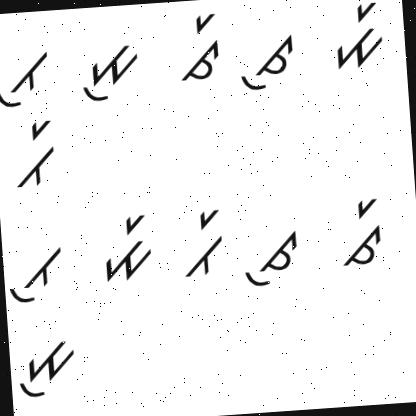bar: (178, 200, 235, 286), (10, 115, 62, 190)
baw: (3, 236, 68, 310), (0, 46, 53, 110)
car: (338, 194, 390, 274), (171, 12, 224, 84)
caw: (233, 24, 304, 97), (235, 221, 307, 292)
mar: (99, 206, 158, 291), (327, 0, 388, 70)
maw: (13, 331, 81, 399), (78, 40, 143, 108)
